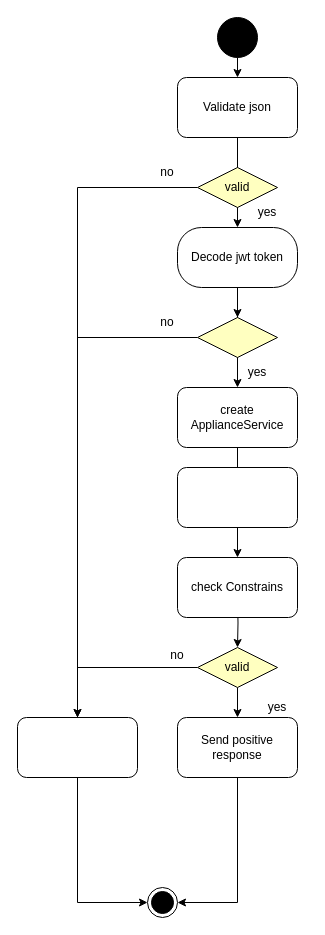
The diagram is 325 pixels wide and 935 high, and some of its shapes have lost their labels. Here are the shapes that lost their labels. From the top down, the box of each, then its label:
(196, 316, 278, 358): notFailed
(176, 466, 298, 528): get Room
(16, 716, 138, 778): Send negative response
